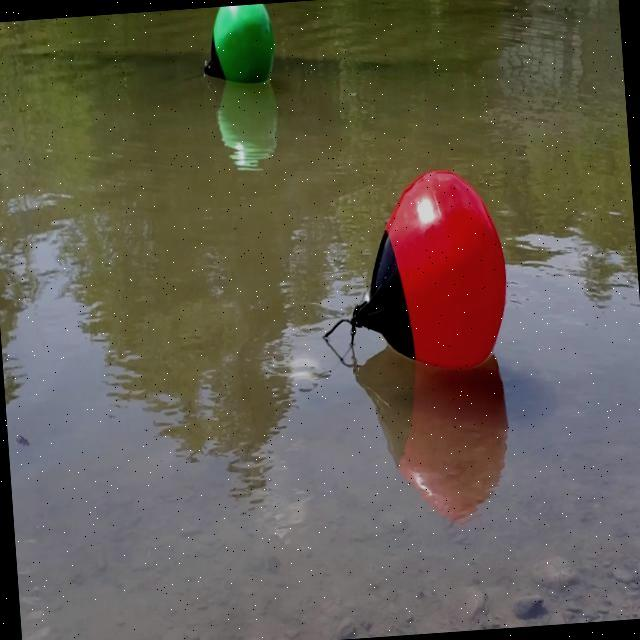buoy: (312, 162, 514, 382), (197, 2, 279, 90)
